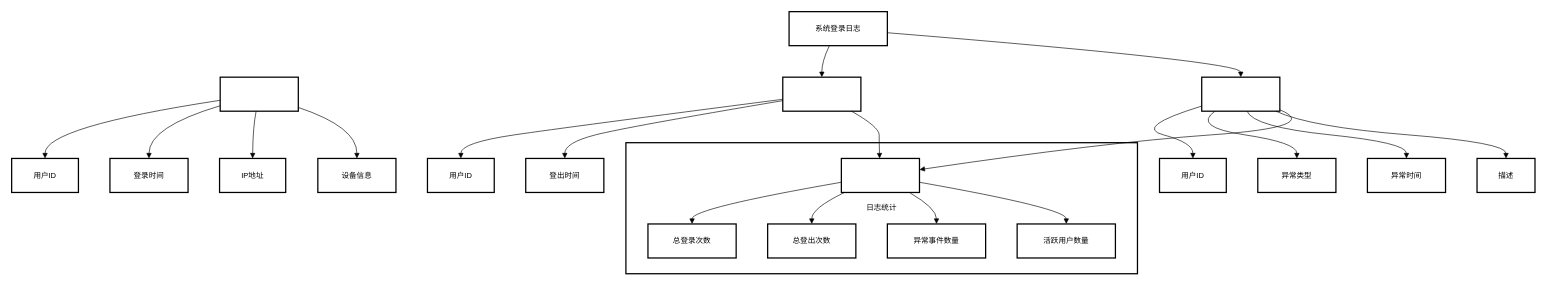
Some shapes in this 1546 by 285 pixel diagram are drawn without their labels. The centre of each missing label's shape, as x and y in pixels:
"异常事件" belongs at point 1240,94.
"登出事件" belongs at point 821,94.
"登录事件" belongs at point 259,94.
"统计信息" belongs at point 880,175.
